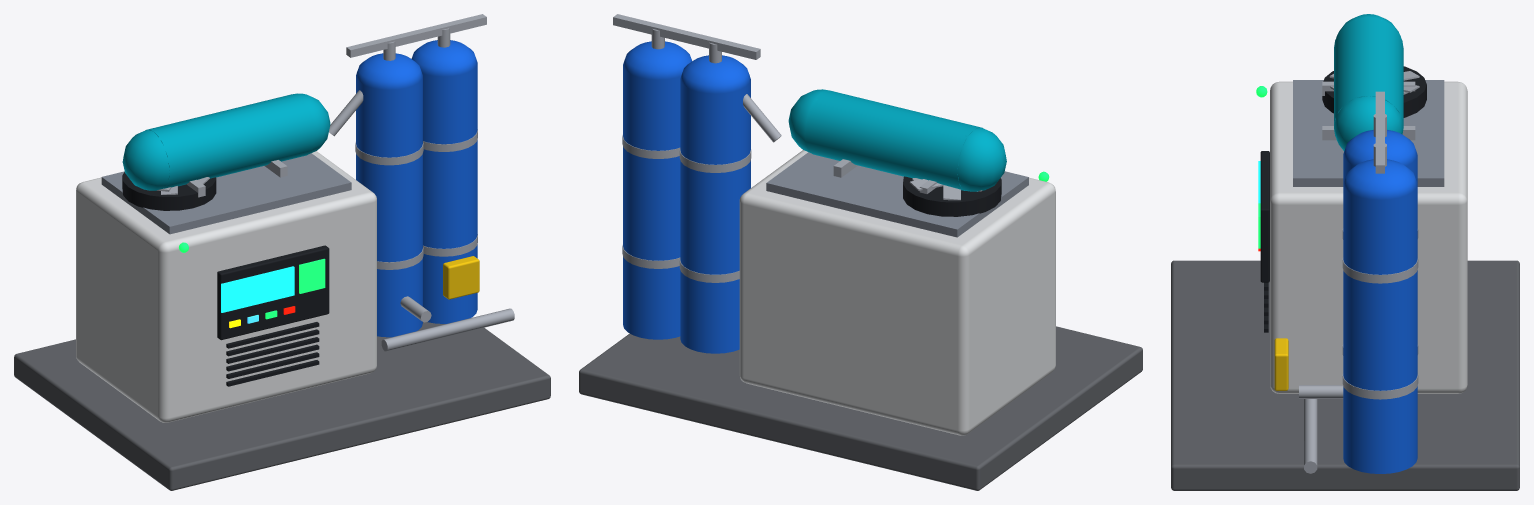
The model's file is oxygen_generator.glb.
The picture shows the model from 3 angles, left to right: view 1: azimuth 30°, elevation 25°; view 2: azimuth 150°, elevation 25°; view 3: azimuth 270°, elevation 25°; orthographic projection. The views are drawn at different scales.
Parts seen in each view (by area): view 1: OGS_Body; view 2: OGS_Body; view 3: OGS_Body.
Part boxes in pixels (bbox=[...]): OGS_Body: bbox=[14, 14, 550, 490]; OGS_Body: bbox=[579, 14, 1142, 490]; OGS_Body: bbox=[1171, 14, 1519, 490].
Bounding box in the file's own units: 4.5 × 3.24 × 3.
